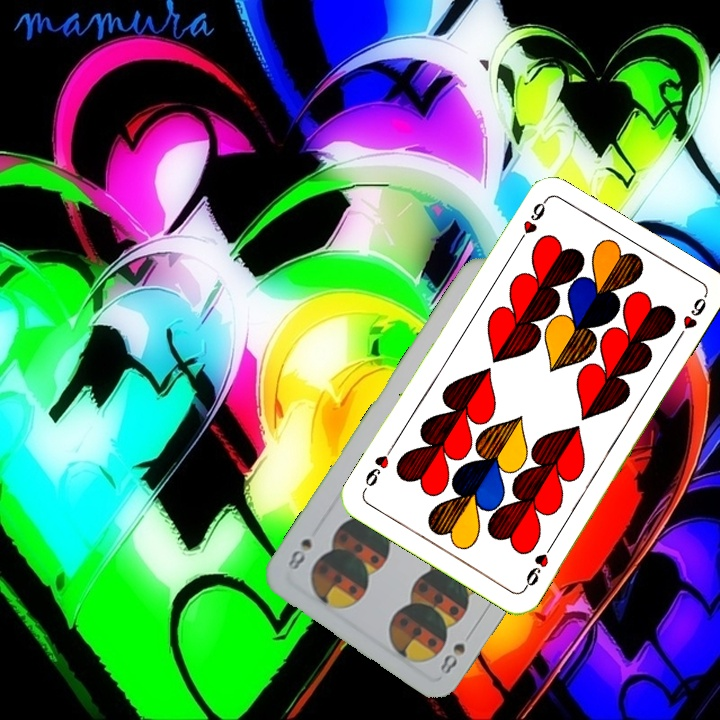H9: (512, 195, 550, 248), (519, 539, 556, 593)
S8: (435, 638, 468, 677)
